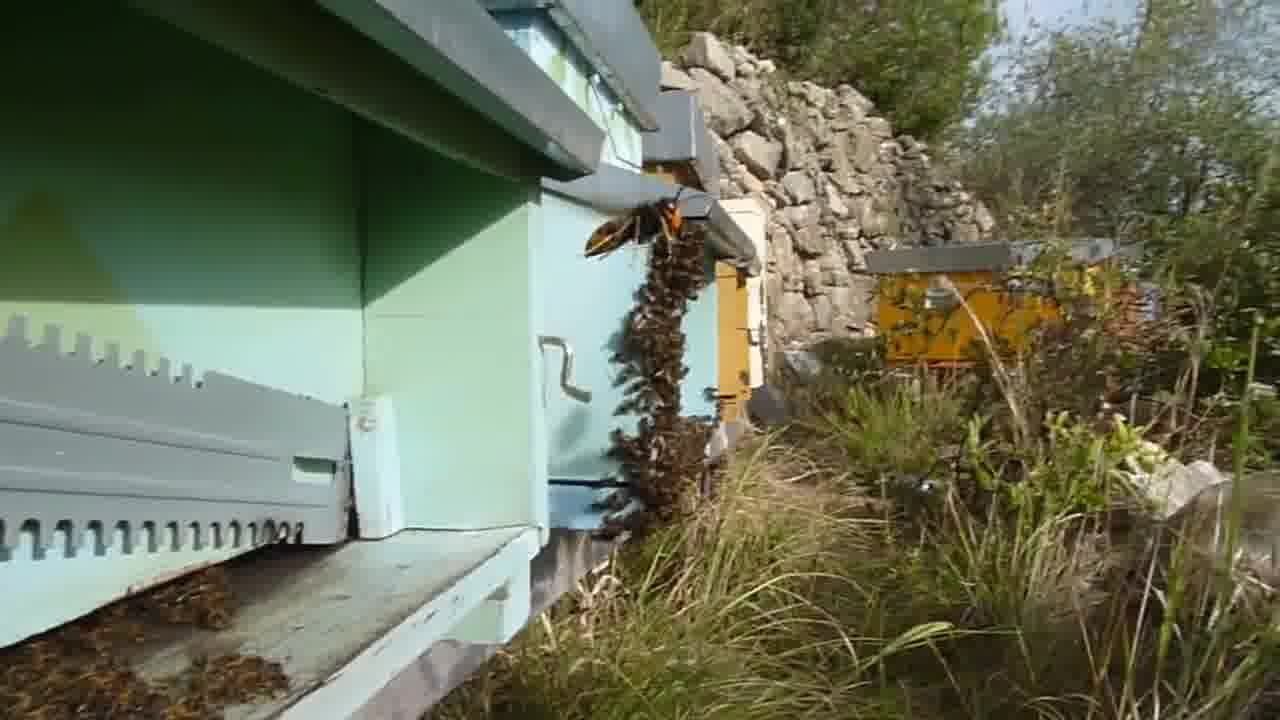bee: (1, 647, 306, 712), (599, 415, 688, 525), (617, 315, 695, 409), (644, 250, 714, 333), (158, 567, 242, 628)
hornet: (580, 188, 686, 268)
